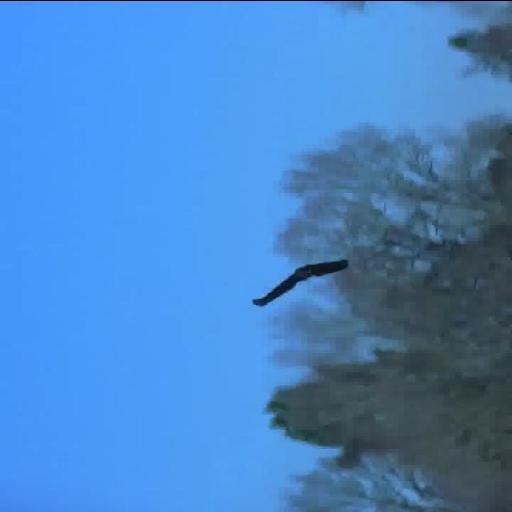uav: (247, 256, 354, 312)
